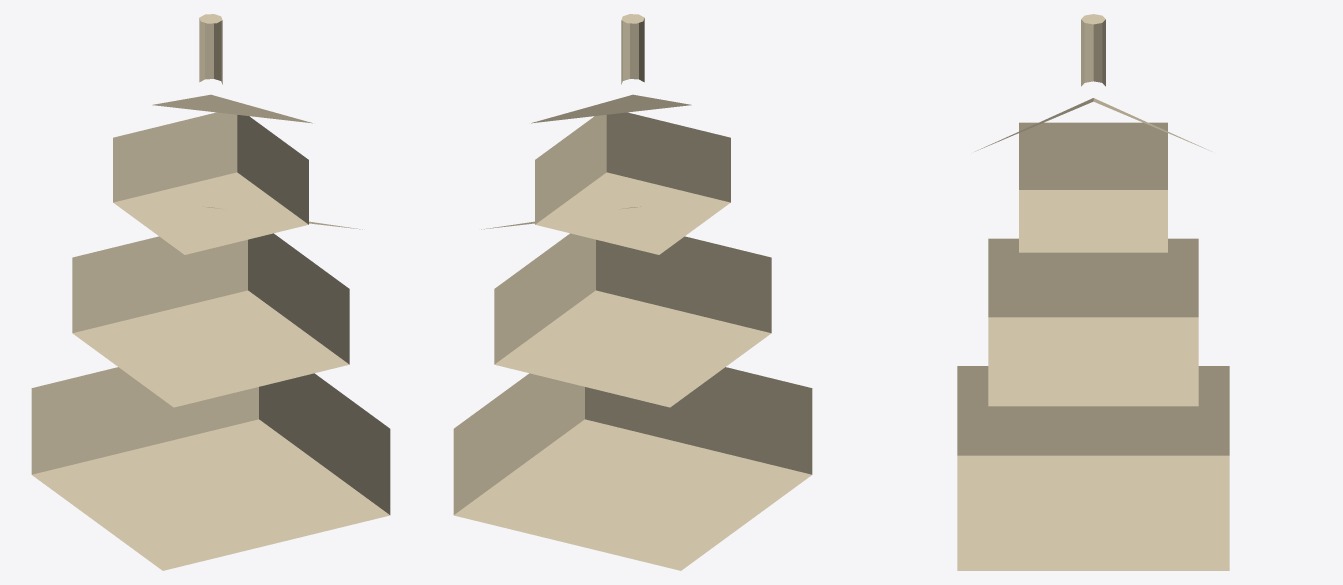
The model's file is konghucu-kelenteng.glb.
The picture shows the model from 3 angles, left to right: view 1: azimuth 30°, elevation 25°; view 2: azimuth 150°, elevation 25°; view 3: azimuth 270°, elevation 25°; orthographic projection. The views are drawn at different scales.
Visible parts, largest first — view 1: konghucu-kelenteng.glb; view 2: konghucu-kelenteng.glb; view 3: konghucu-kelenteng.glb.
Boxes of the visible parts, x1,y1,x2,y2 form: konghucu-kelenteng.glb: (31,14,390,570); konghucu-kelenteng.glb: (453,14,812,570); konghucu-kelenteng.glb: (957,14,1229,570).
Bounding box in the file's own units: 1.9 × 2.2 × 1.9.
